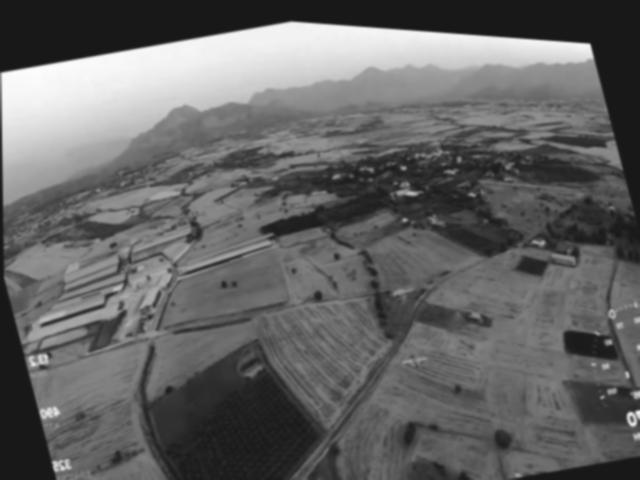hedef: (488, 448, 546, 477), (391, 336, 434, 374)
